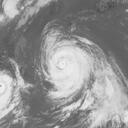cyclone: (43, 41, 93, 96), (0, 72, 18, 118)
